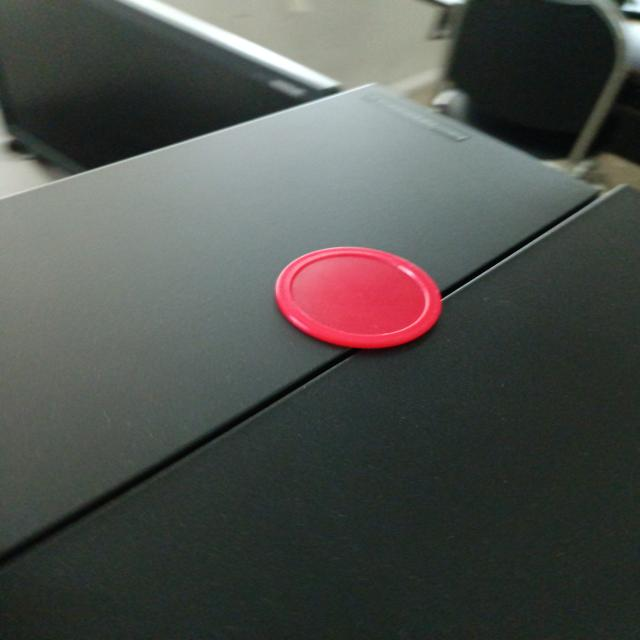chip: (268, 242, 447, 350)
